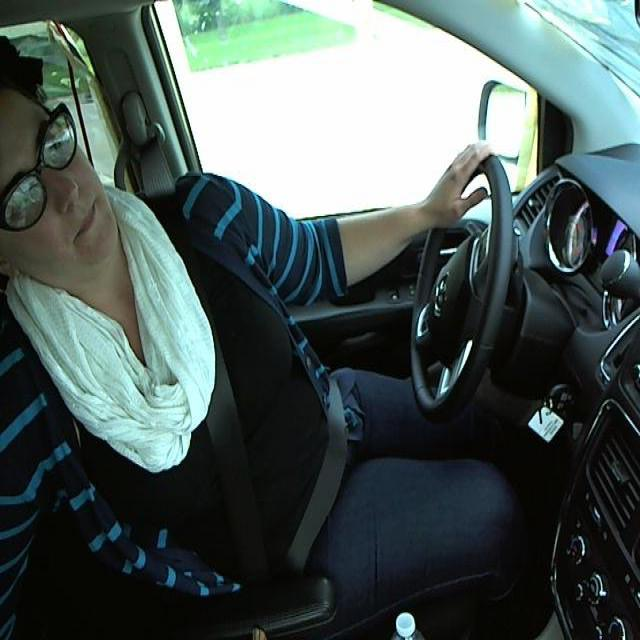seatbelt: (186, 425, 306, 627)
